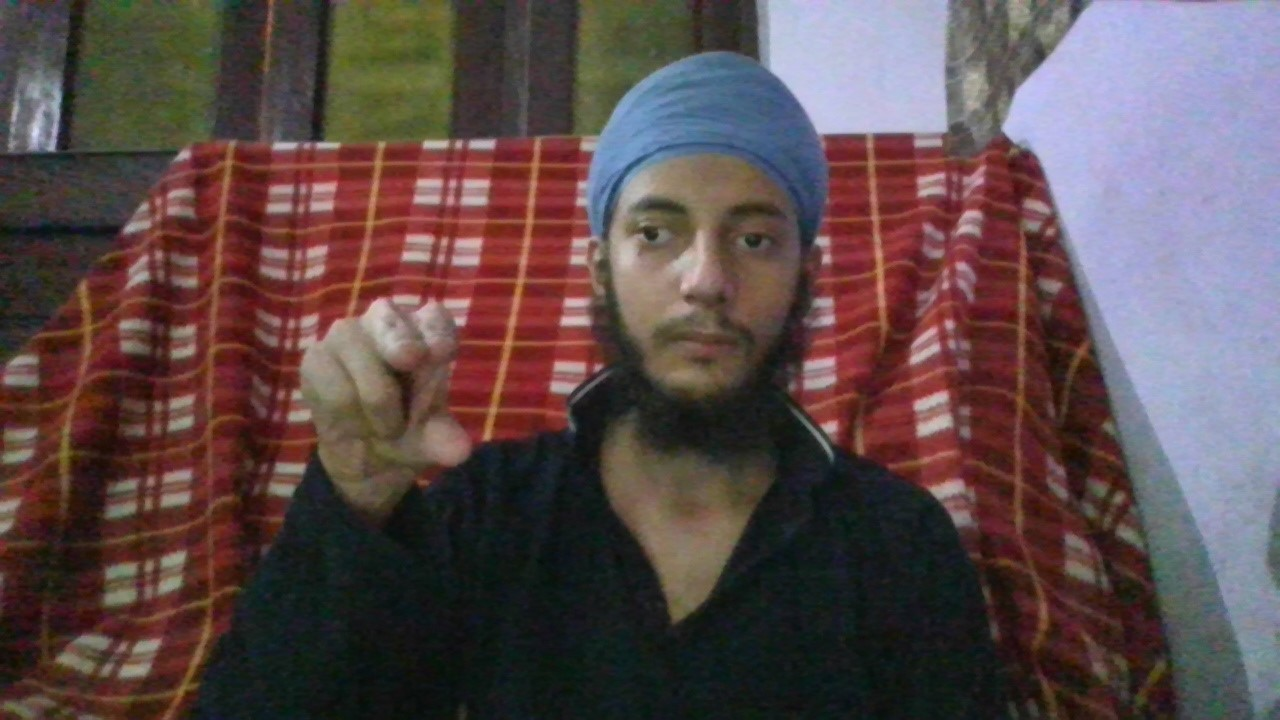No: (290, 297, 476, 473)
